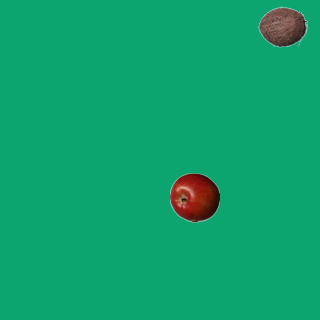Apple Braeburn: (169, 172, 219, 222)
Cocos: (257, 1, 307, 51)
